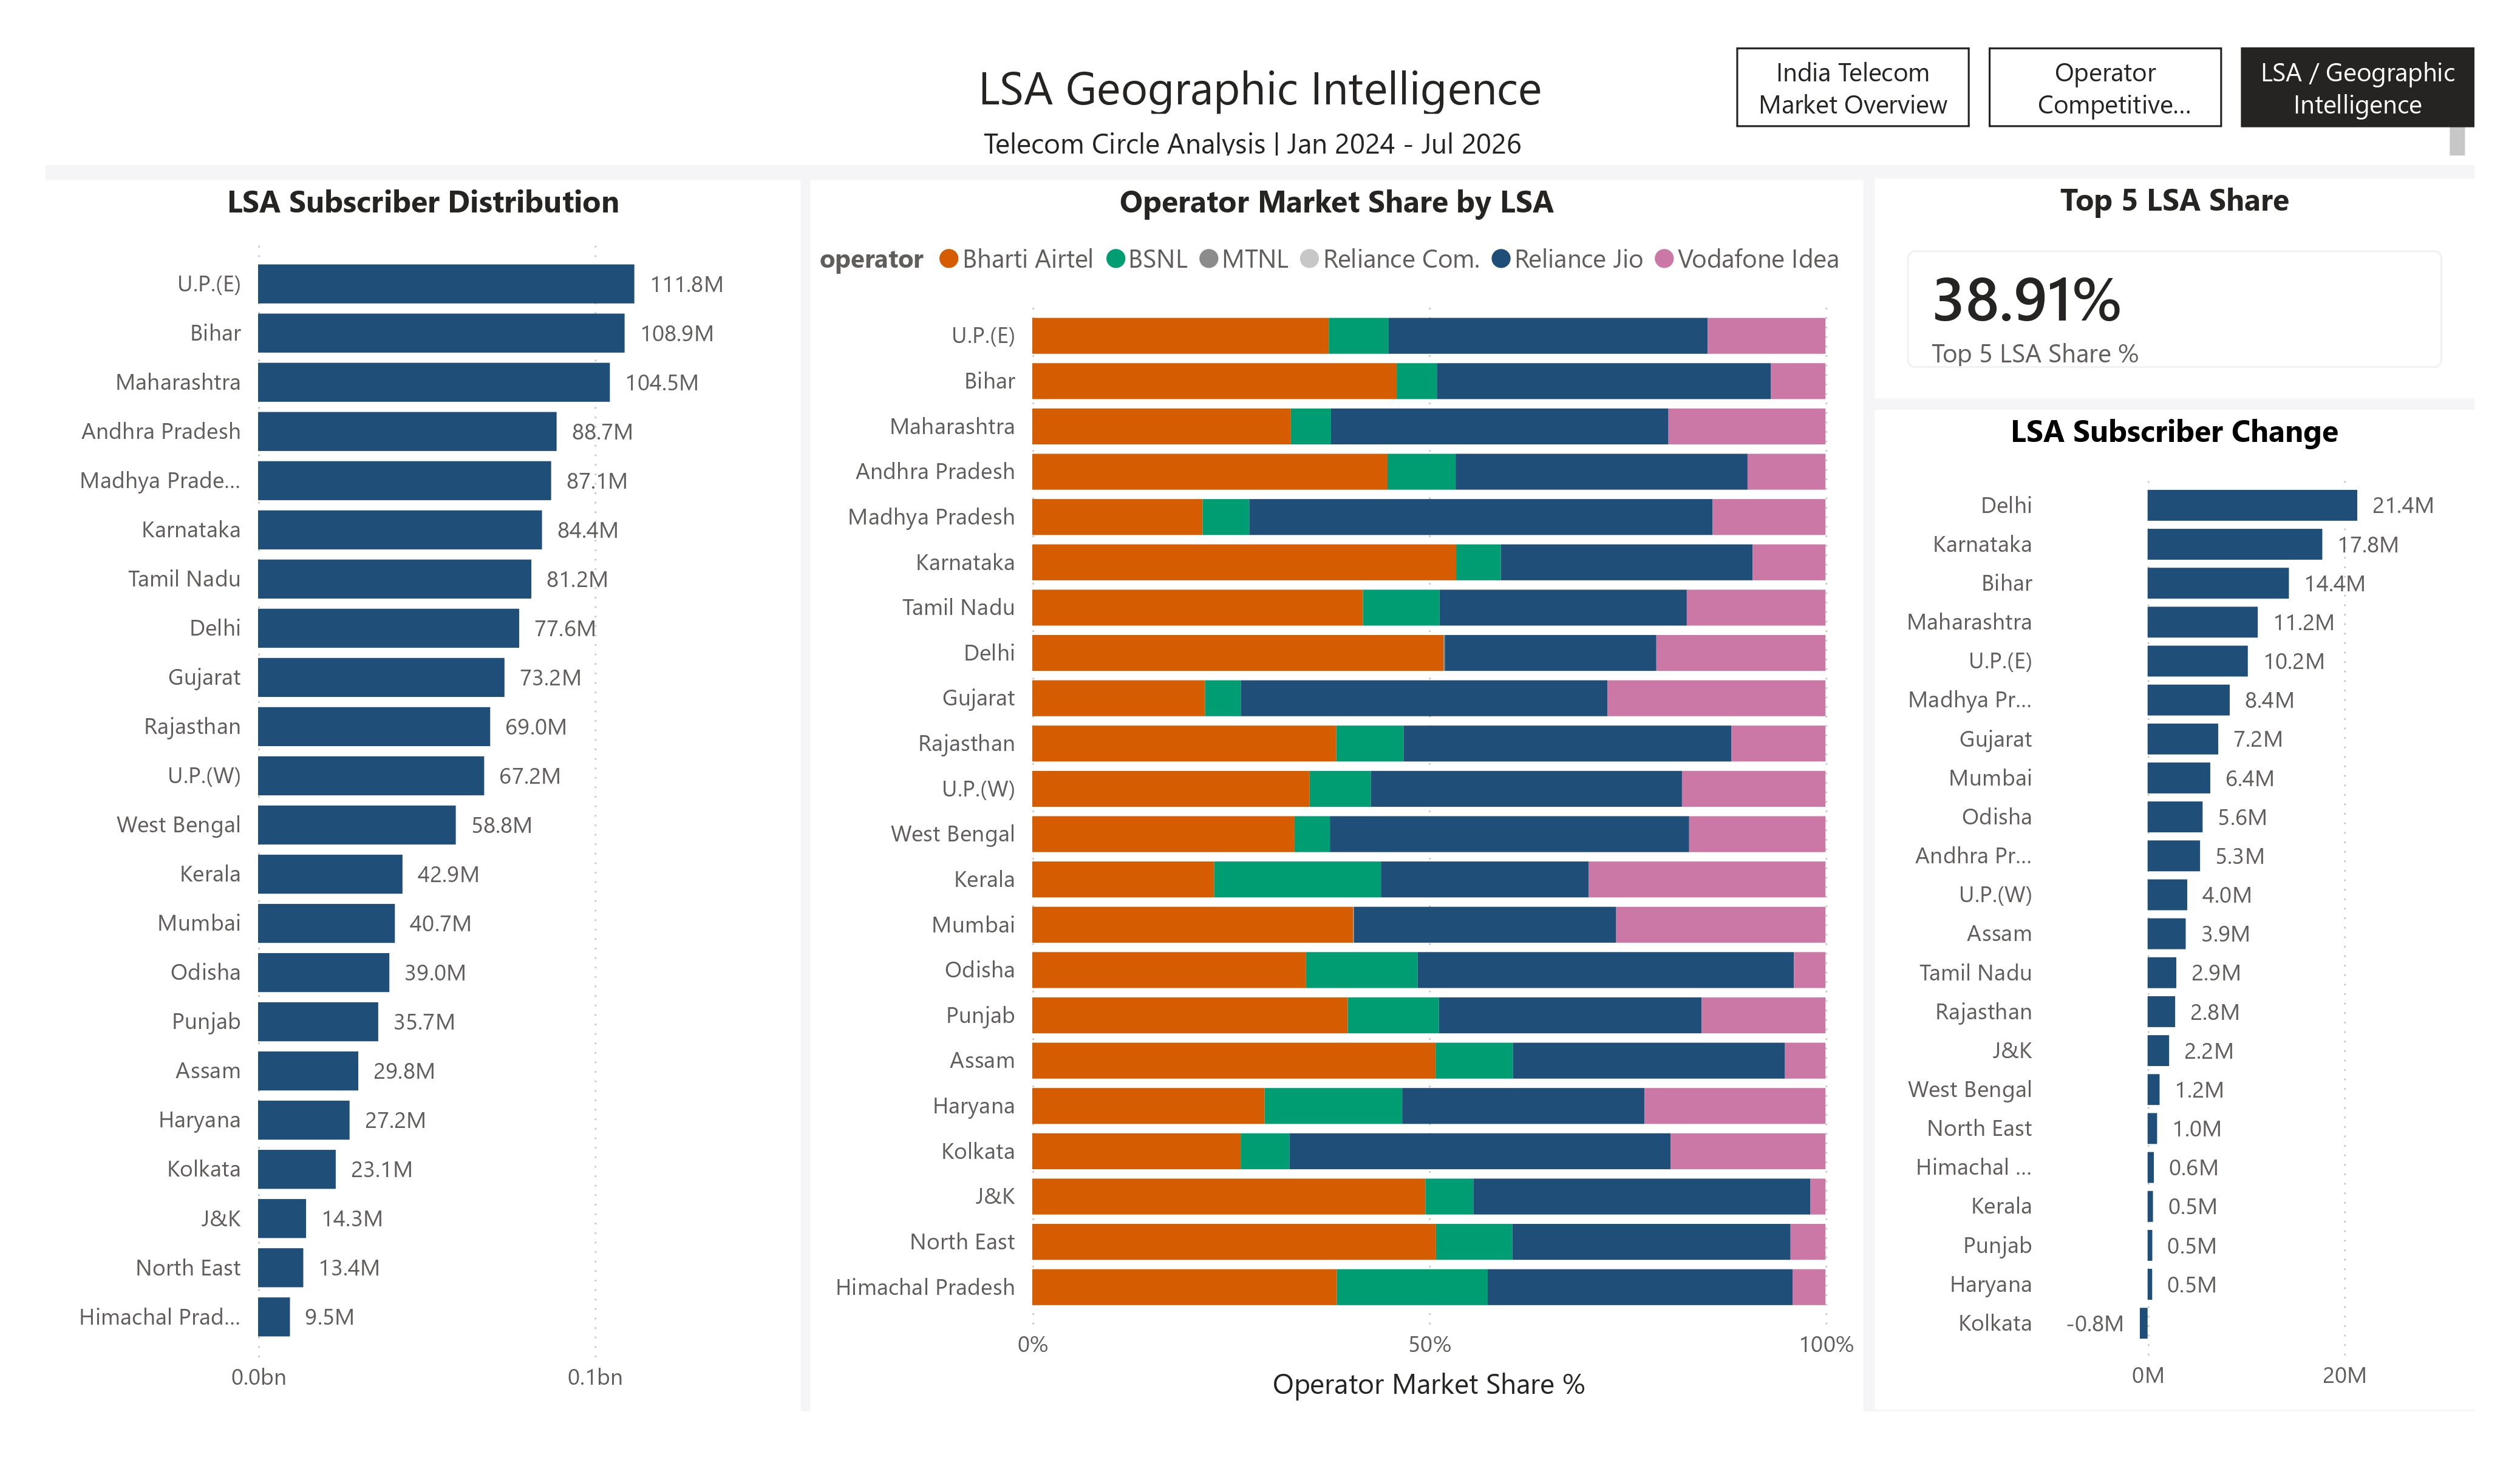

This screenshot's page, from the dashboard's own definition file:
{"tool":"powerbi","page":{"name":"LSA / Geographic Intelligence","canvas":[1280,720],"ordinal":2},"visuals":[{"type":"textbox","box":[0,0,1279.9,42.1],"z":0},{"type":"textbox","box":[0,36,1280,26.8],"z":1000},{"type":"clusteredBarChart","title":"LSA Subscriber Distribution","fields":{"Category":["Fact_Telecom.lsa"],"Y":["Fact_Telecom.Current Subscribers"]},"box":[0,71,397.5,649],"z":2000},{"type":"hundredPercentStackedBarChart","title":"Operator Market Share by LSA","fields":{"Category":["Fact_Telecom.lsa"],"Y":["Fact_Telecom.Operator Market Share %"],"Series":["Fact_Telecom.operator"]},"box":[403,71,555.2,649],"z":3000},{"type":"clusteredBarChart","title":"LSA Subscriber Change","fields":{"Category":["Fact_Telecom.lsa"],"Y":["Fact_Telecom.LSA Subscriber Change"]},"box":[964.2,191.7,315.8,527.2],"z":4000},{"type":"cardVisual","title":"Top 5 LSA Share","fields":{"Data":["Fact_Telecom.Top 5 LSA Share %"]},"box":[964,70,315.8,116],"z":5000},{"type":"pageNavigator","box":[890.9,1.4,389.1,42],"z":5001}]}

Visuals, with their boxes on the page's 1280x720 design canvas (x1, y1, x2, y2). These are canvas units, not pixel positions in the 2520x1457 screenshot, which may show the page scaled, cropped or inside an application window:
textbox: (0,0,1280,42)
textbox: (0,36,1280,63)
"LSA Subscriber Distribution" clusteredBarChart: (0,71,398,720)
"Operator Market Share by LSA" hundredPercentStackedBarChart: (403,71,958,720)
"LSA Subscriber Change" clusteredBarChart: (964,192,1280,719)
"Top 5 LSA Share" cardVisual: (964,70,1280,186)
pageNavigator: (891,1,1280,43)
